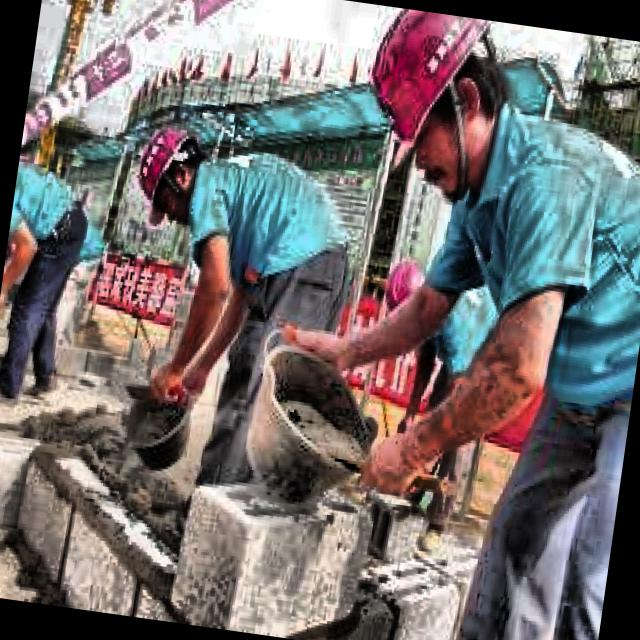helmet: (352, 8, 520, 211), (130, 122, 207, 226)
